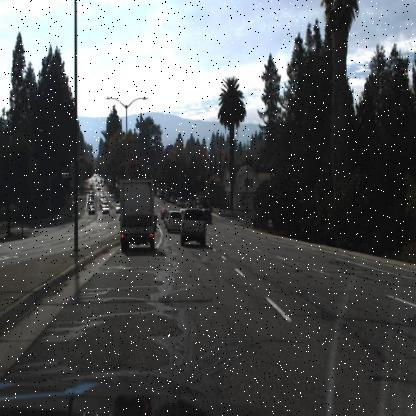car: (179, 205, 208, 251), (165, 210, 183, 232), (200, 205, 212, 226), (174, 197, 184, 209), (102, 204, 110, 216), (88, 205, 96, 216), (115, 202, 122, 213), (169, 195, 176, 206)
truck: (119, 176, 156, 252)
